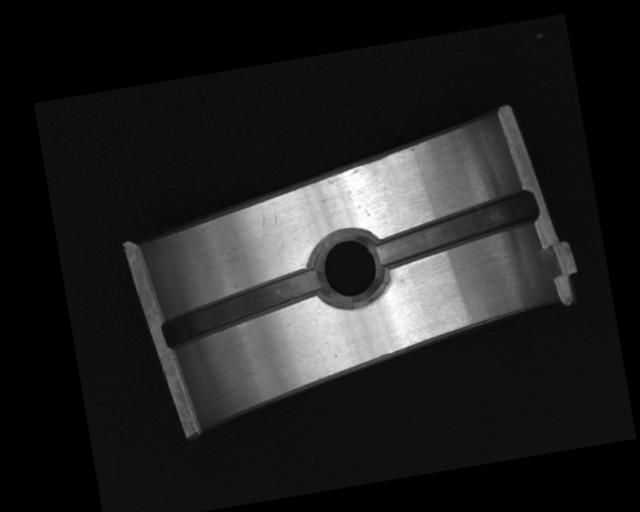gap: (157, 265, 327, 349), (369, 188, 542, 270)
hole: (308, 225, 387, 310)
